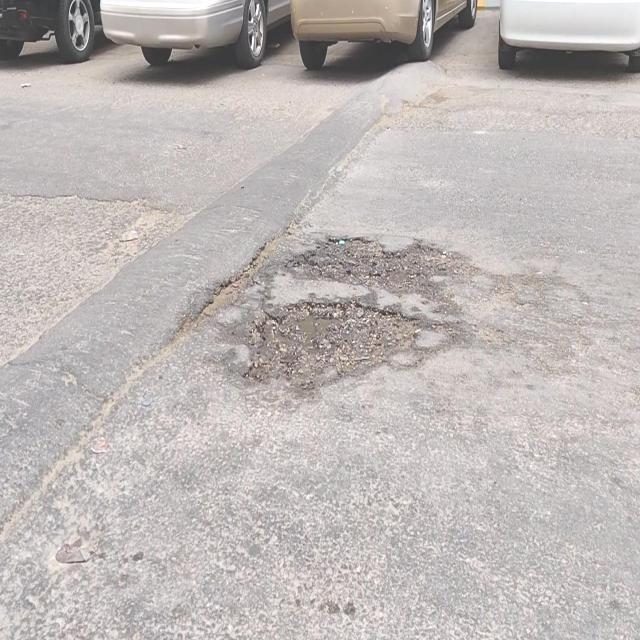Potholes: (249, 301, 419, 391), (301, 233, 456, 296)
